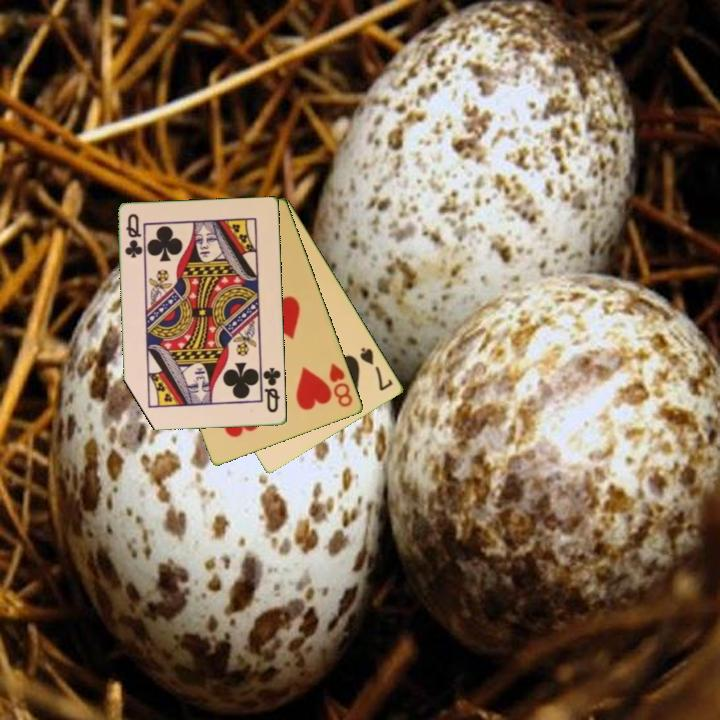7s: (356, 344, 396, 394)
8h: (326, 360, 356, 410)
Qc: (258, 363, 284, 416), (122, 210, 145, 261)
